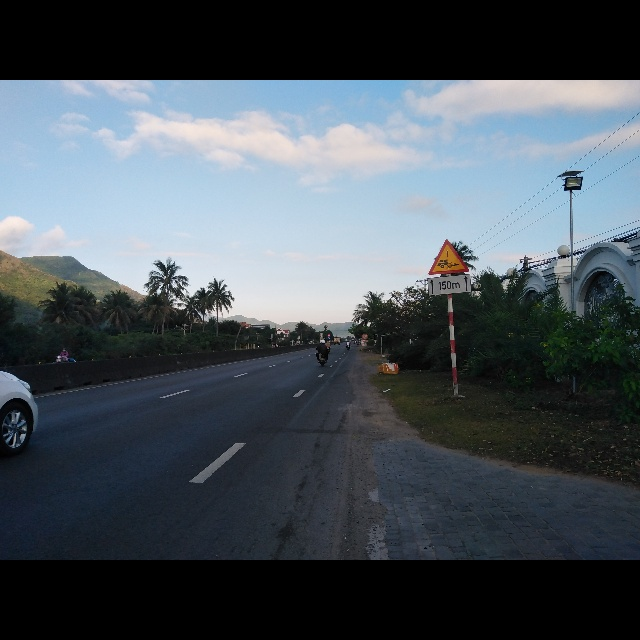Đoạn đường hay xảy ra tai nạn: (427, 238, 472, 275)
